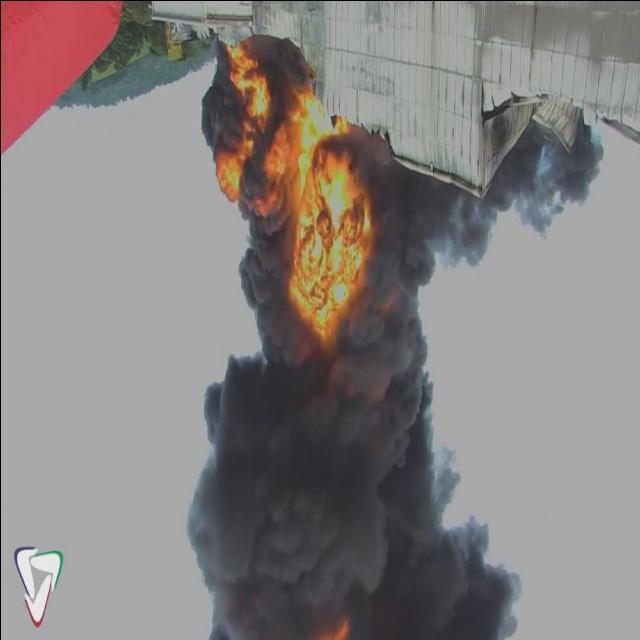Fire: (288, 91, 366, 337), (213, 36, 271, 216)
